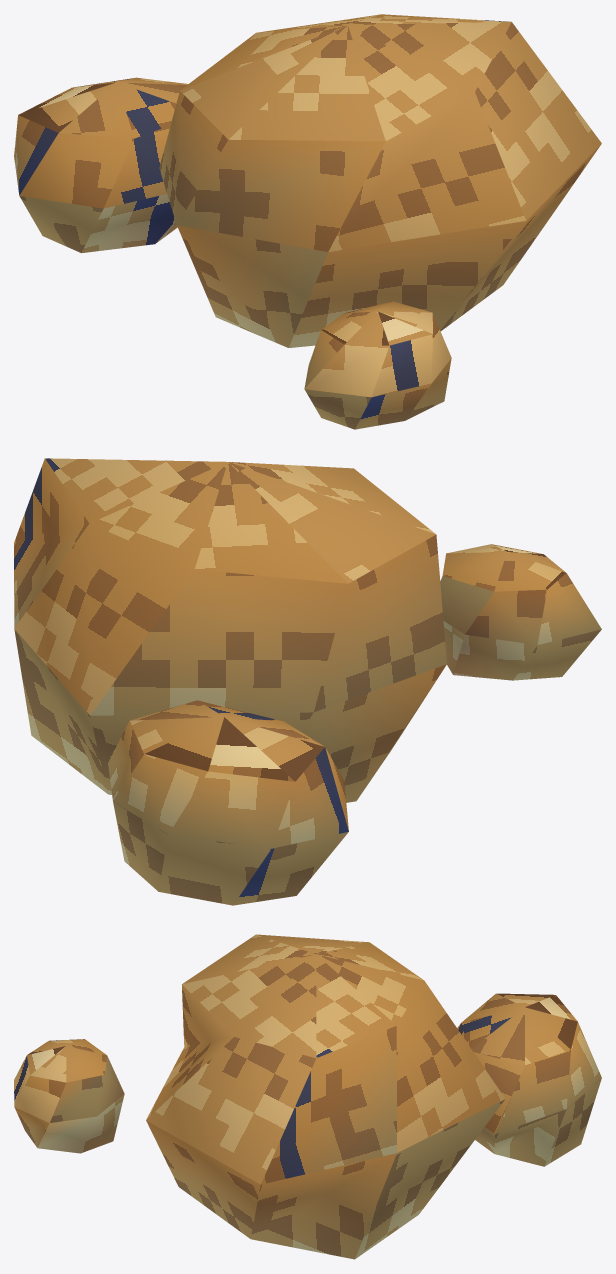
Rendered from wland.boulder__small.glb.
The picture shows the model from 3 angles, top to bottom: view 1: azimuth 30°, elevation 25°; view 2: azimuth 150°, elevation 25°; view 3: azimuth 270°, elevation 25°; orthographic projection. The views are drawn at different scales.
Parts seen in each view (by area): view 1: kit_rocks; view 2: kit_rocks; view 3: kit_rocks.
Boxes of the visible parts, x1,y1,x2,y2 form: kit_rocks: (14,14,601,429); kit_rocks: (14,458,601,905); kit_rocks: (14,934,601,1259).
Bounding box in the file's own units: 1.27 × 0.7386 × 1.65.
Materials: 1 (1 with a texture image).
